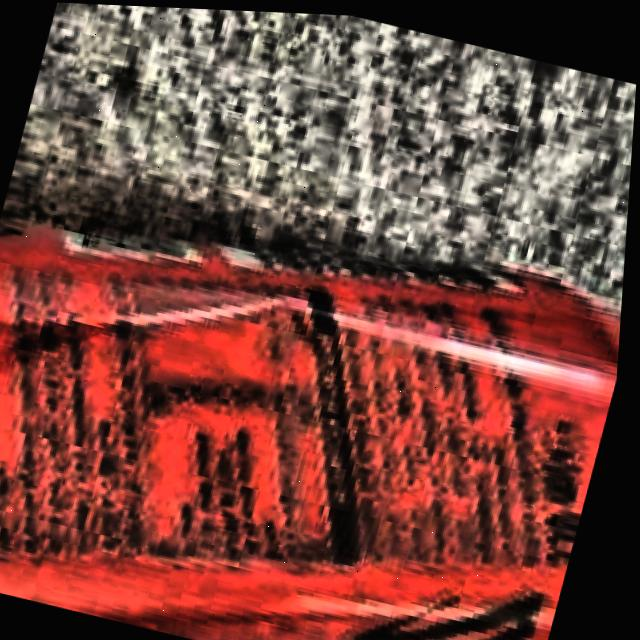metal: (0, 223, 625, 640)
